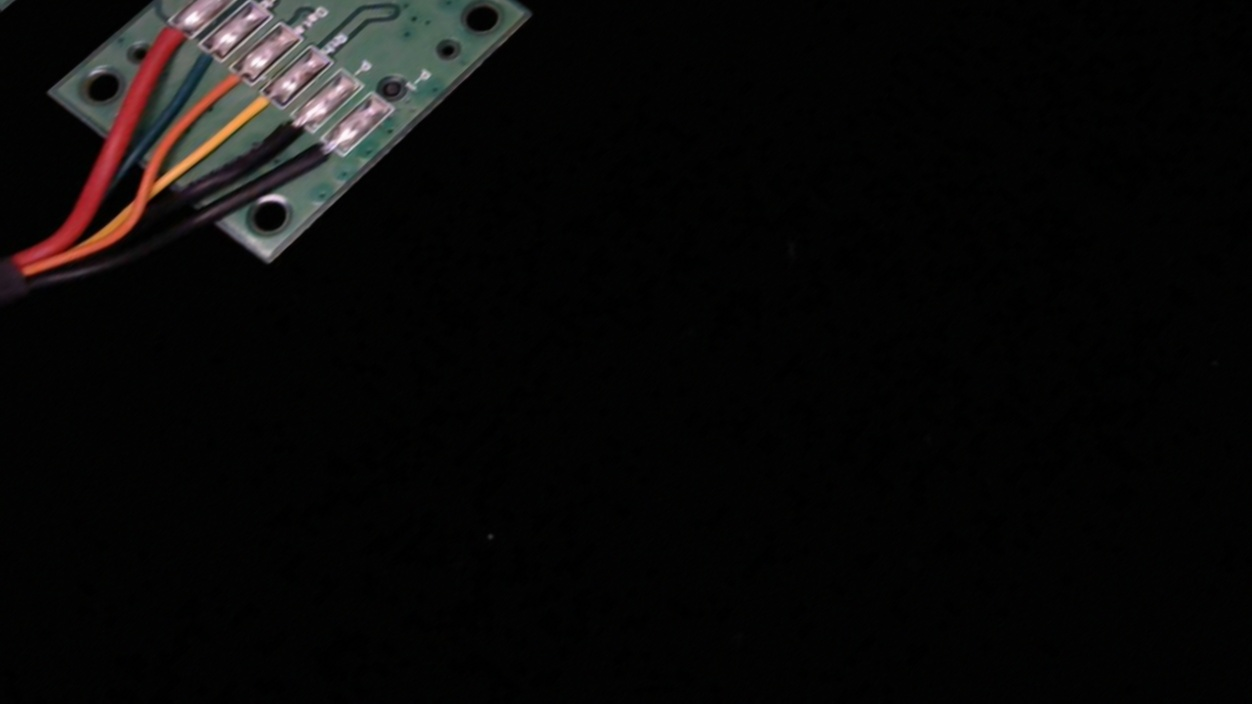Black: (238, 104, 325, 175)
Black1: (270, 129, 358, 200)
Green: (147, 33, 239, 104)
Orange: (176, 57, 268, 130)
Red: (114, 11, 206, 82)
Yellow: (200, 80, 296, 156)
